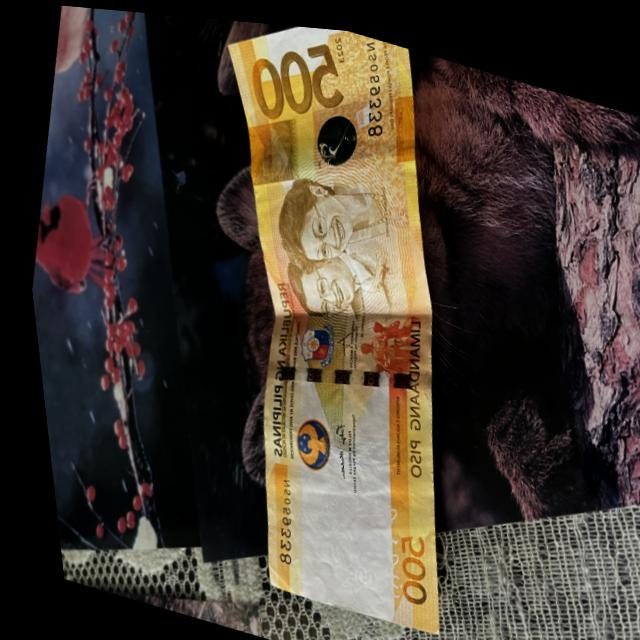concealed_value: (245, 113, 297, 181)
optically_variable_device: (310, 94, 362, 166)
security_thread: (257, 360, 423, 383)
see_through_mark: (369, 494, 390, 599)
serial_number: (340, 27, 407, 140), (265, 469, 280, 561)
value: (244, 31, 345, 118)
value_watermark: (333, 554, 363, 584)
